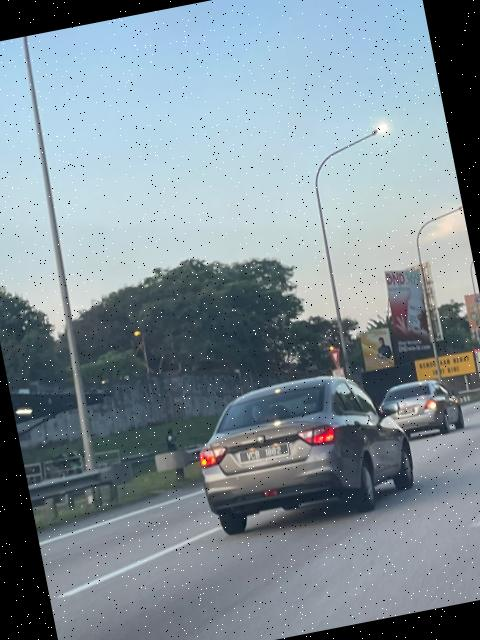License_Plate: (235, 439, 288, 472)
car: (185, 358, 423, 540), (380, 372, 466, 446)
